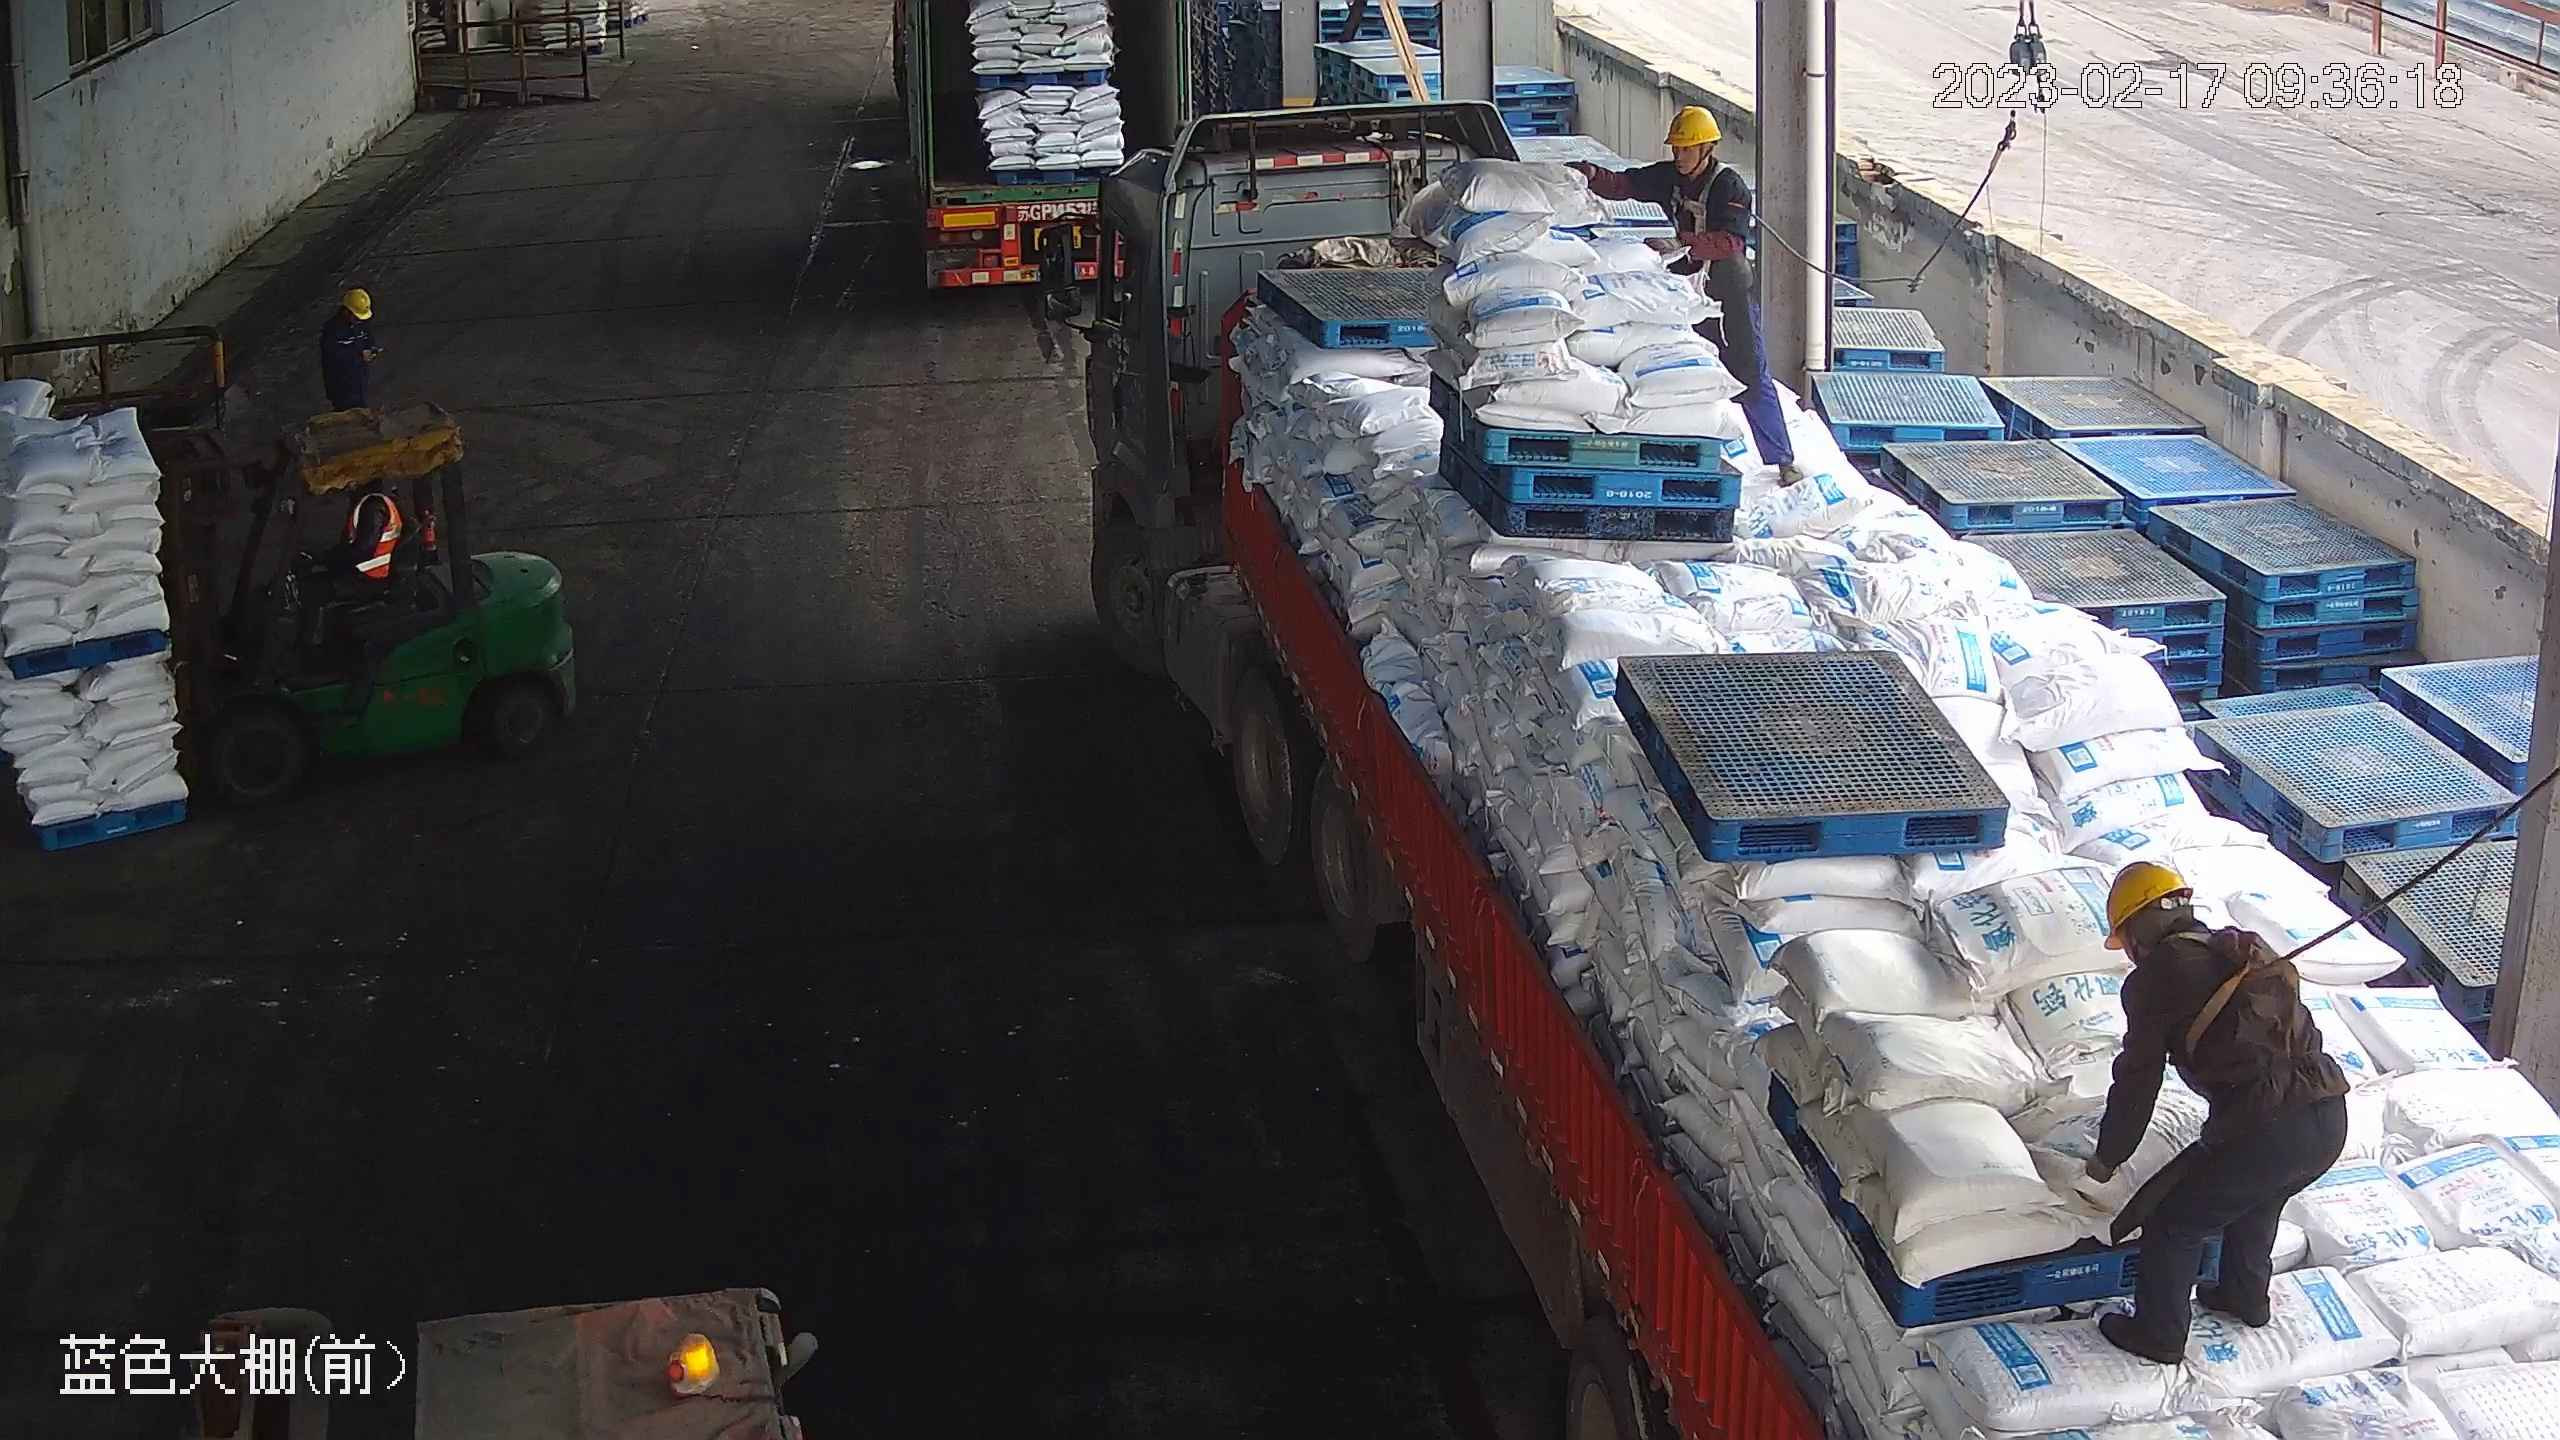belt: (2173, 926, 2311, 1047), (1673, 166, 1732, 239)
head: (2092, 858, 2286, 1010), (1643, 105, 1752, 217), (320, 284, 378, 352)
helmet: (2094, 854, 2197, 938), (1661, 101, 1723, 150), (340, 286, 371, 315)
people: (2071, 856, 2354, 1374), (1590, 100, 1803, 490), (290, 486, 413, 646), (318, 285, 381, 408)
truck: (1036, 95, 2556, 1438), (871, 6, 1204, 320)
